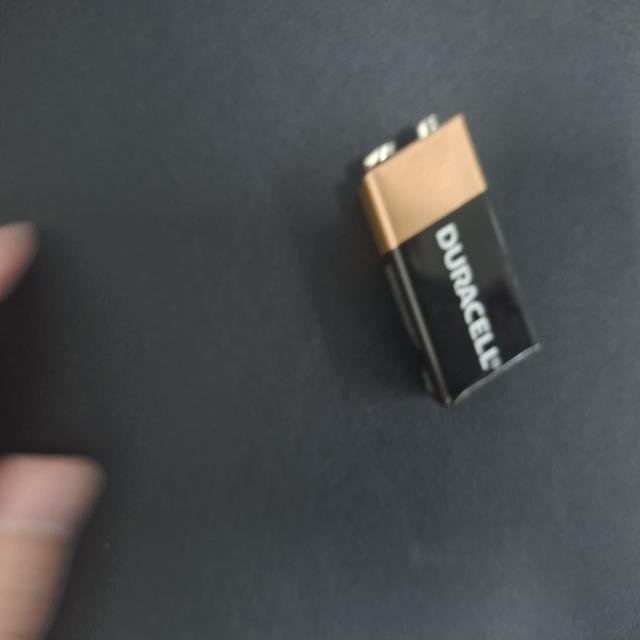9V: (82, 132, 307, 378)
